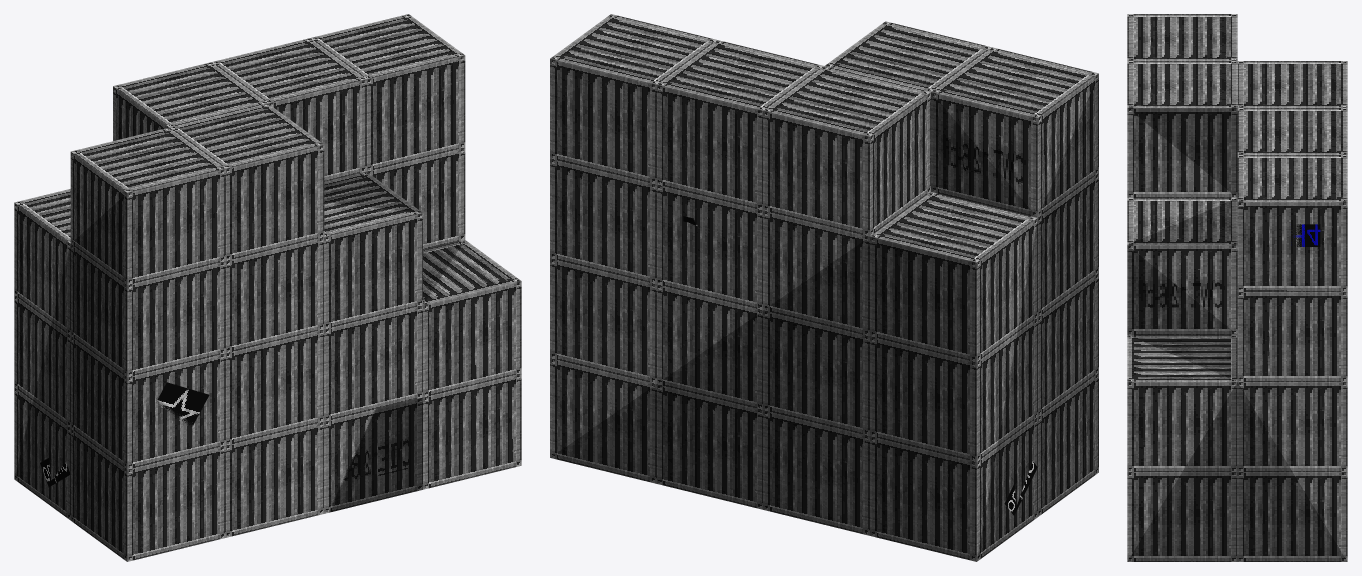
Rendered from depot_metal_crate_stack_6.glb.
3 views of the same model, side by side, from view 1: azimuth 30°, elevation 25°; view 2: azimuth 150°, elevation 25°; view 3: azimuth 270°, elevation 25° (orthographic). The views are drawn at different scales.
Parts seen in each view (by area): view 1: Object; view 2: Object; view 3: Object.
Boxes of the visible parts, x1,y1,x2,y2 form: Object: [14, 14, 521, 561]; Object: [550, 14, 1098, 561]; Object: [1127, 14, 1347, 561].
Size of the model in its own units: 5.85 by 5.23 by 2.9.
8 materials, 8 textured.
